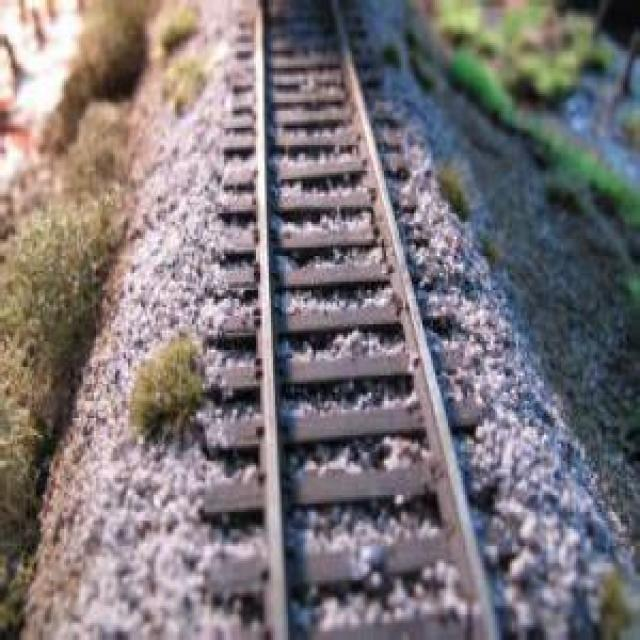rail: (211, 1, 547, 640)
